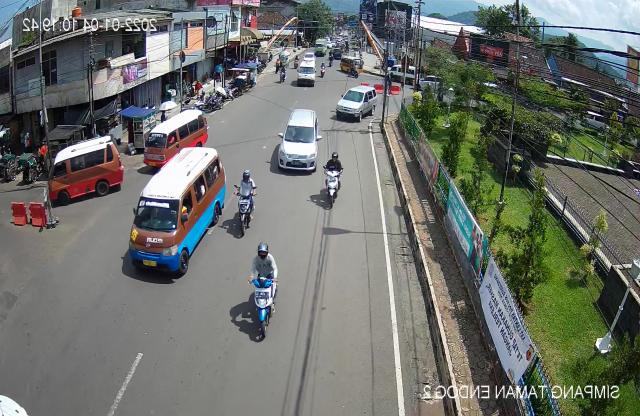Mobil: (123, 143, 230, 290), (46, 134, 126, 207), (141, 107, 208, 178), (276, 105, 323, 173), (328, 84, 378, 124)
Motor: (243, 235, 282, 343), (318, 149, 350, 213), (232, 167, 260, 239)
